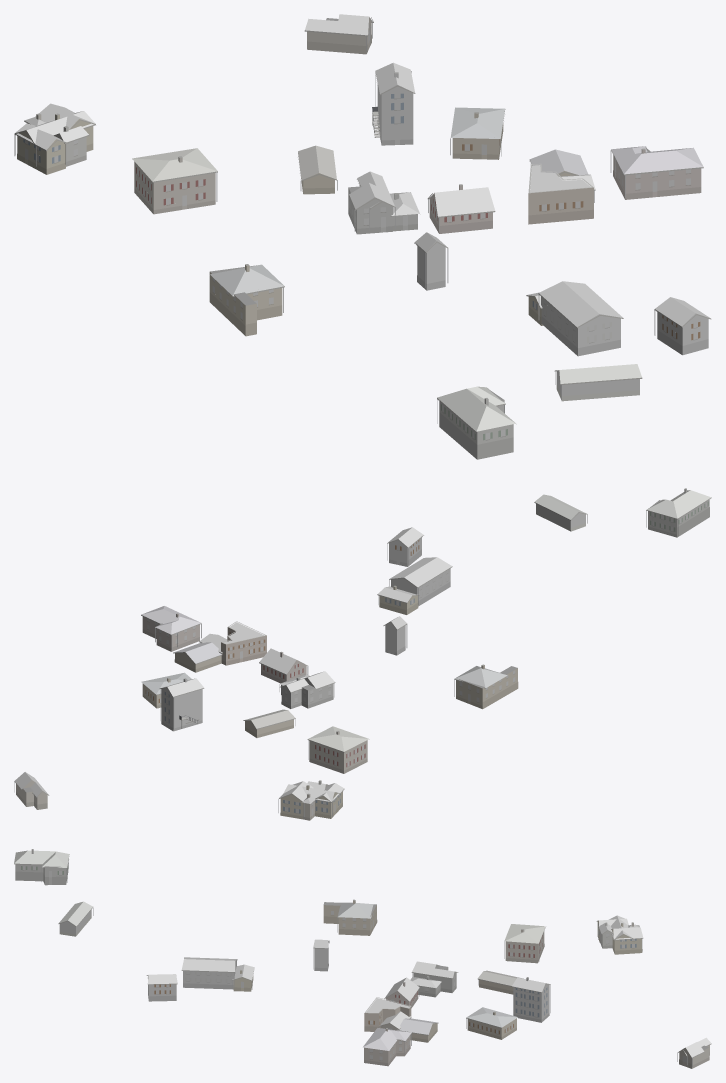
The picture shows the model from 3 angles, top to bottom: view 1: azimuth 30°, elevation 25°; view 2: azimuth 150°, elevation 25°; view 3: azimuth 270°, elevation 25°; orthographic projection. The views are drawn at different scales.
Visible parts, largest first — view 1: bld; view 2: bld; view 3: bld.
Part boxes in pixels (<box>): bld: <box>14,14,711,459</box>; bld: <box>14,488,711,820</box>; bld: <box>14,849,711,1068</box>.
Size of the model in its own units: 114 by 31.76 by 218.
